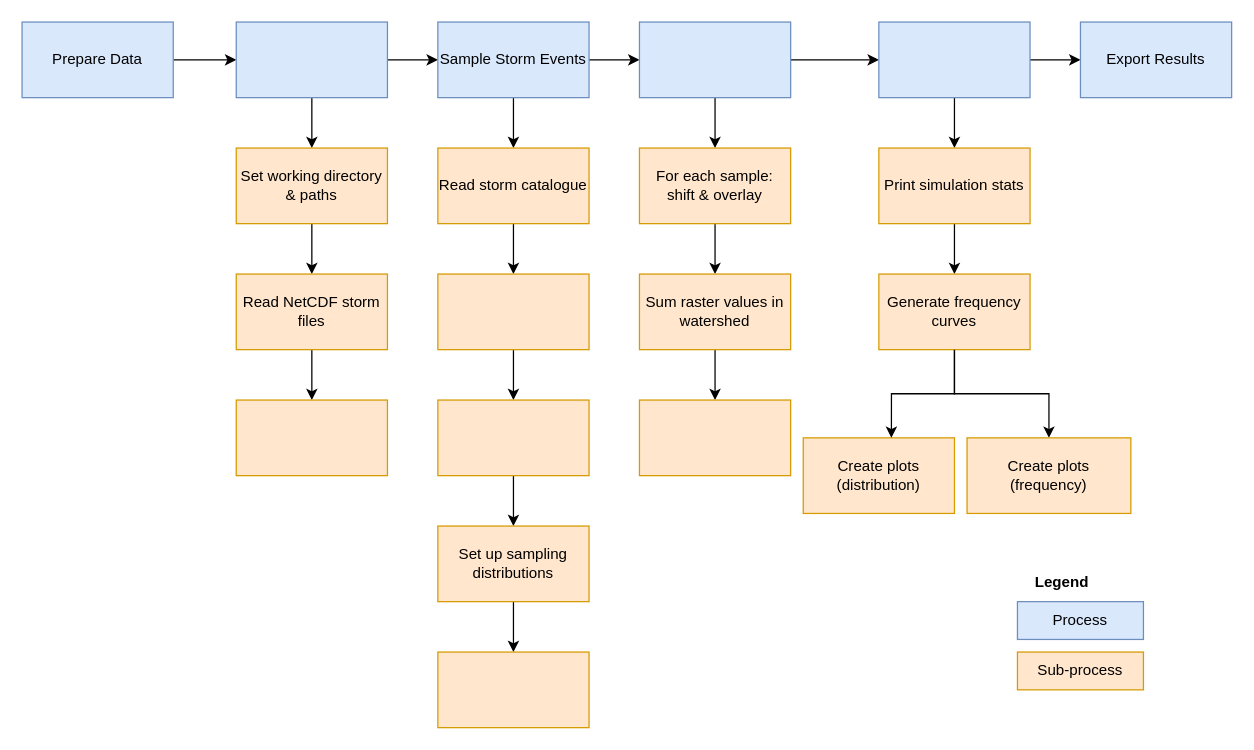
This 1254x750 diagram has some shape labels left out. Each missing label, with the centre of its shape:
Analyze & Visualize Results: (x=954, y=59)
Compute Precipitation Depths: (x=714, y=59)
Create storm catalogue: (x=311, y=437)
Extract stats (centroids, bounds): (x=513, y=437)
Match CRS: (x=513, y=311)
Preprocess Storm Catalogue: (x=311, y=59)
Run simulations (sample storms): (x=513, y=689)
Store computed depths: (x=714, y=437)
